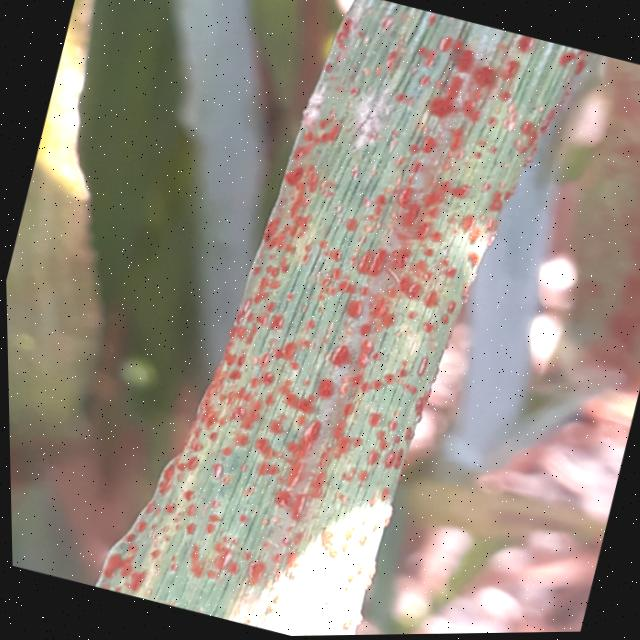orang_rust: (71, 0, 611, 639), (505, 55, 640, 421)
